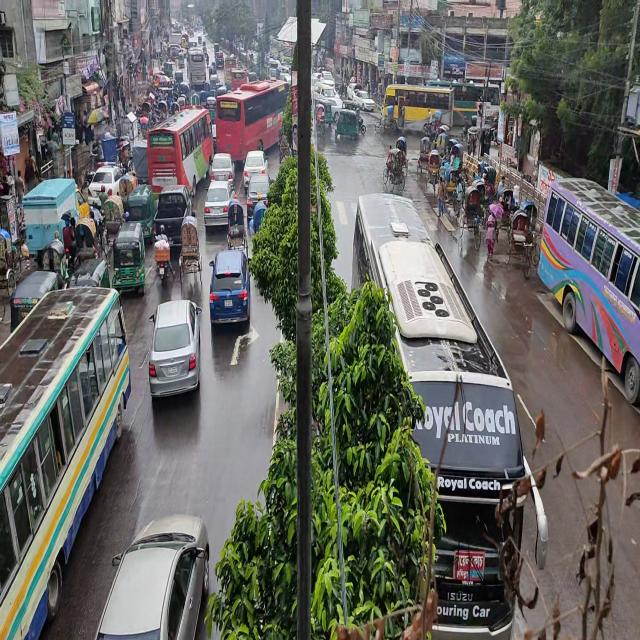blue: (209, 248, 250, 334)
